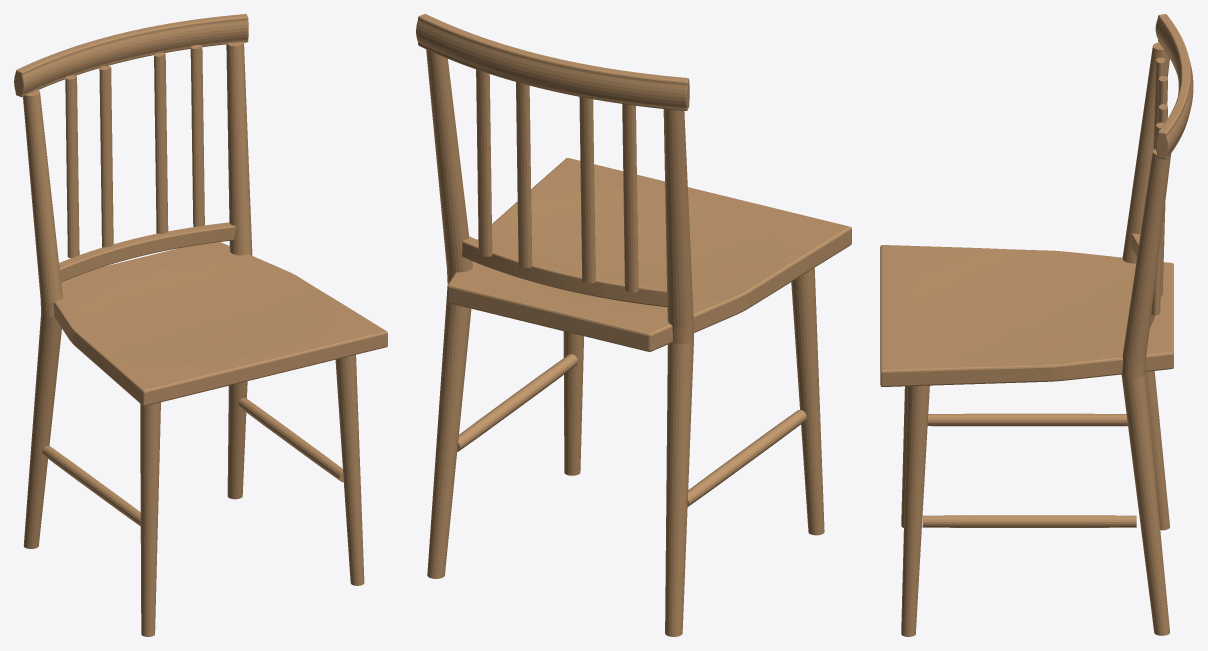
3 views of the same model, side by side, from view 1: azimuth 30°, elevation 25°; view 2: azimuth 150°, elevation 25°; view 3: azimuth 270°, elevation 25° (orthographic). The views are drawn at different scales.
Visible parts, largest first — view 1: Seat, BackLegPost_1, TopRail, BackLegPost_0, FrontLeg_1, FrontLeg_0, BottomBackRail, BackSlat_3, BackSlat_1, BackSlat_2, BackSlat_0, SideStretcher_0 (+1 smaller); view 2: Seat, BackLegPost_1, BackLegPost_0, TopRail, FrontLeg_1, BottomBackRail, BackSlat_3, BackSlat_1, BackSlat_2, BackSlat_0, FrontLeg_0, SideStretcher_0 (+1 smaller); view 3: Seat, BackLegPost_0, FrontLeg_0, BackLegPost_1, TopRail, SideStretcher_0, SideStretcher_1, BackSlat_2, FrontLeg_1.
Part boxes in pixels (bbox=[...]): Seat: bbox=[53, 242, 387, 406]; BackLegPost_1: bbox=[23, 89, 62, 548]; TopRail: bbox=[14, 14, 248, 97]; BackLegPost_0: bbox=[226, 42, 252, 499]; FrontLeg_1: bbox=[140, 402, 160, 636]; FrontLeg_0: bbox=[335, 355, 364, 585]; BottomBackRail: bbox=[59, 222, 235, 282]; BackSlat_3: bbox=[65, 75, 79, 257]; BackSlat_1: bbox=[99, 66, 113, 247]; BackSlat_2: bbox=[190, 44, 204, 226]; BackSlat_0: bbox=[154, 52, 168, 233]; SideStretcher_0: bbox=[238, 398, 343, 482]; Seat: bbox=[447, 158, 851, 351]; BackLegPost_1: bbox=[663, 109, 693, 636]; BackLegPost_0: bbox=[426, 49, 472, 578]; TopRail: bbox=[416, 14, 689, 110]; FrontLeg_1: bbox=[791, 268, 824, 535]; BottomBackRail: bbox=[462, 236, 667, 306]; BackSlat_3: bbox=[622, 104, 638, 292]; BackSlat_1: bbox=[579, 96, 595, 283]; BackSlat_2: bbox=[476, 69, 492, 256]; BackSlat_0: bbox=[516, 82, 532, 267]; FrontLeg_0: bbox=[563, 331, 583, 475]; SideStretcher_0: bbox=[457, 354, 577, 451]; Seat: bbox=[880, 245, 1173, 386]; BackLegPost_0: bbox=[1121, 149, 1171, 635]; FrontLeg_0: bbox=[901, 385, 929, 636]; BackLegPost_1: bbox=[1122, 42, 1169, 530]; TopRail: bbox=[1155, 14, 1193, 159]; SideStretcher_0: bbox=[922, 515, 1136, 527]; SideStretcher_1: bbox=[927, 413, 1127, 426]; BackSlat_2: bbox=[1151, 122, 1164, 315]; FrontLeg_1: bbox=[901, 386, 907, 527].
Bounding box in the file's own units: 0.4495 × 0.8375 × 0.469.
